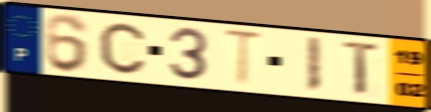3: (167, 26, 210, 83)
6: (44, 12, 91, 75)
C: (97, 21, 147, 76)
I: (304, 35, 323, 95)
T: (220, 27, 266, 90), (341, 39, 384, 99)
